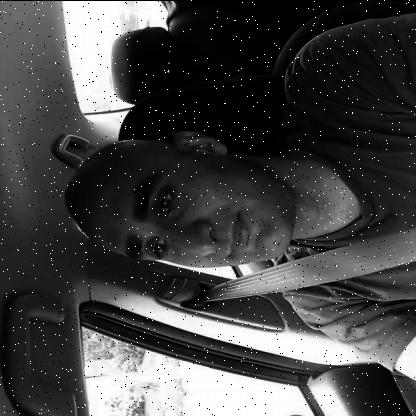seatbelt: (56, 98, 416, 292)
